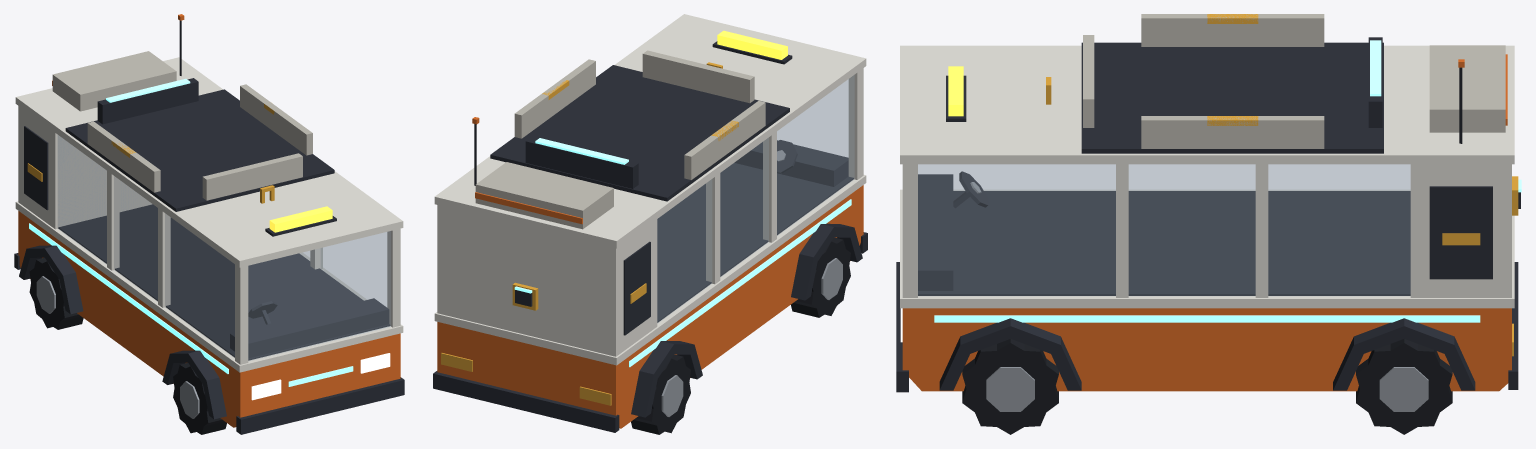
File: vozidlo-crew.glb
The picture shows the model from 3 angles, left to right: view 1: azimuth 30°, elevation 25°; view 2: azimuth 150°, elevation 25°; view 3: azimuth 270°, elevation 25°; orthographic projection. The views are drawn at different scales.
Visible parts, largest first — view 1: karoserie, kolo_3, kolo_1; view 2: karoserie, kolo_1, kolo_3; view 3: karoserie, kolo_4, kolo_2.
Boxes of the visible parts, left/top/right/bottom form: karoserie: left=14, top=14, right=404, bottom=434; kolo_3: left=29, top=257, right=83, bottom=329; kolo_1: left=173, top=363, right=226, bottom=434; karoserie: left=433, top=14, right=867, bottom=432; kolo_1: left=791, top=237, right=850, bottom=317; kolo_3: left=631, top=354, right=690, bottom=434; karoserie: left=896, top=14, right=1521, bottom=392; kolo_4: left=1356, top=339, right=1452, bottom=434; kolo_2: left=962, top=339, right=1058, bottom=434.
Size of the model in its own units: 2.32 by 3.1 by 4.92.
